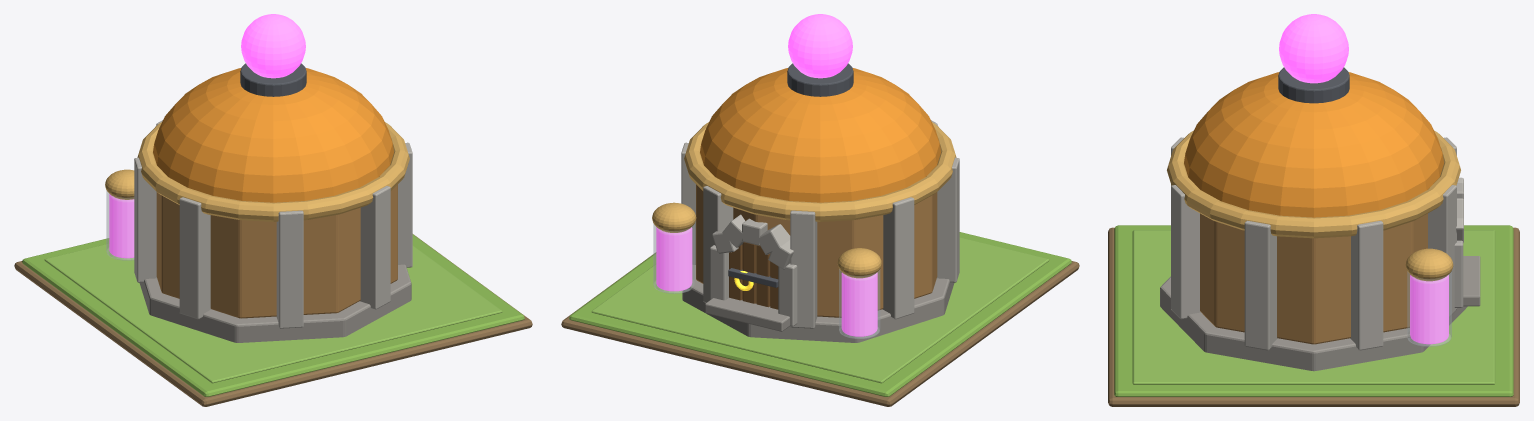
File: laboratory_lv2.glb
The picture shows the model from 3 angles, left to right: view 1: azimuth 30°, elevation 25°; view 2: azimuth 150°, elevation 25°; view 3: azimuth 270°, elevation 25°; orthographic projection. The views are drawn at different scales.
Visible parts, largest first — view 1: LabDome, Base_Inner, LabWallDrum, Base_Grass, LabPlinth, LabDomeRim, Base_Dirt, LabPillar_4, LabPillar_6, ArcaneOrb, LabPillar_5, LabPillar_3 (+5 smaller); view 2: LabDome, Base_Inner, Base_Grass, LabWallDrum, LabDomeRim, Base_Dirt, LabPlinth, LabPillar_3, ArcaneOrb, LabPillar_2, SideVatGlass_1, SideVatGlass_0 (+17 smaller); view 3: LabDome, Base_Inner, LabWallDrum, Base_Grass, LabDomeRim, Base_Dirt, LabPlinth, LabPillar_0, LabPillar_7, ArcaneOrb, LabPillar_6, SideVatGlass_0 (+6 smaller).
Part boxes in pixels (x1,y1,x2,y2): LabDome: (153, 68, 393, 202); Base_Inner: (44, 243, 502, 383); LabWallDrum: (156, 184, 397, 318); Base_Grass: (22, 234, 524, 396); LabPlinth: (139, 264, 411, 342); LabDomeRim: (137, 122, 409, 221); Base_Dirt: (14, 234, 532, 406); LabPillar_4: (179, 197, 211, 319); LabPillar_6: (360, 186, 390, 309); ArcaneOrb: (241, 14, 305, 78); LabPillar_5: (276, 210, 303, 328); LabPillar_3: (134, 157, 156, 282); LabDome: (700, 68, 940, 202); Base_Inner: (591, 237, 1049, 383); Base_Grass: (569, 232, 1071, 396); LabWallDrum: (696, 184, 937, 317); LabDomeRim: (684, 122, 956, 221); Base_Dirt: (561, 253, 1079, 406); LabPlinth: (682, 265, 954, 342); LabPillar_3: (882, 197, 914, 319); ArcaneOrb: (788, 14, 852, 78); LabPillar_2: (790, 210, 817, 328); SideVatGlass_1: (839, 269, 880, 338); SideVatGlass_0: (653, 223, 694, 293); LabDome: (1184, 72, 1443, 217); Base_Inner: (1132, 230, 1495, 384); LabWallDrum: (1200, 213, 1427, 344); Base_Grass: (1114, 225, 1513, 396); LabDomeRim: (1167, 130, 1460, 238); Base_Dirt: (1108, 227, 1519, 406); LabPlinth: (1160, 276, 1467, 371); LabPillar_0: (1350, 220, 1383, 350); LabPillar_7: (1244, 220, 1277, 350); ArcaneOrb: (1279, 14, 1348, 83); LabPillar_6: (1171, 185, 1200, 319); SideVatGlass_0: (1407, 271, 1451, 346).
Size of the model in its own units: 2.76 by 2.25 by 2.76.
